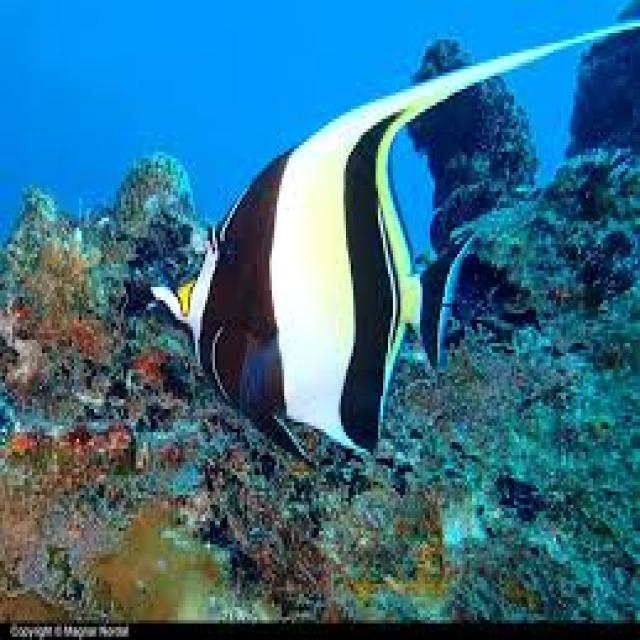MorishIdol: (146, 0, 637, 475)
